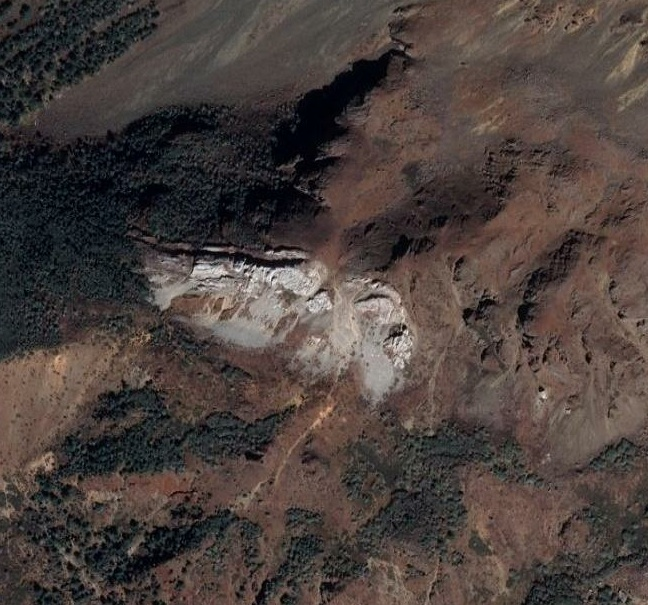slope: (129, 229, 418, 400)
